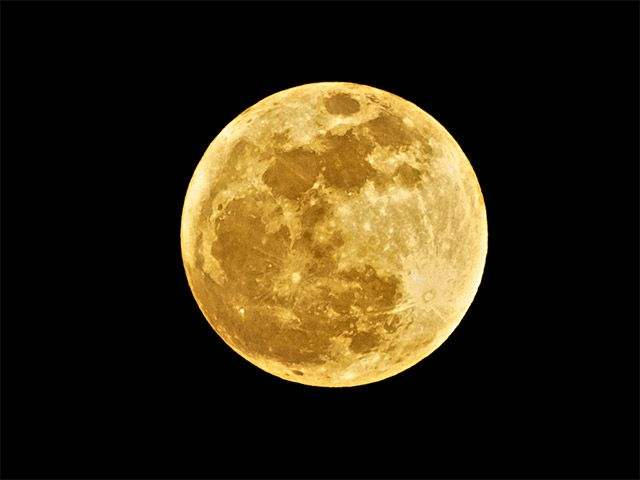moon: (179, 79, 489, 389)
